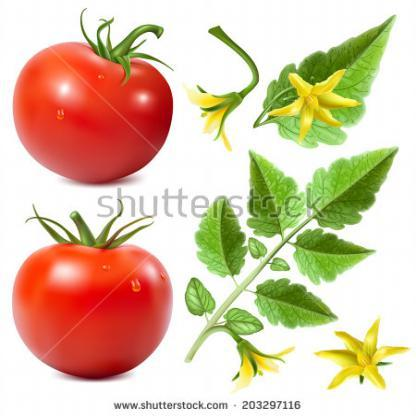Tomato leaf bacterial spot: (229, 146, 319, 250), (306, 136, 405, 224), (276, 229, 412, 283), (191, 189, 252, 290), (255, 277, 354, 333)
